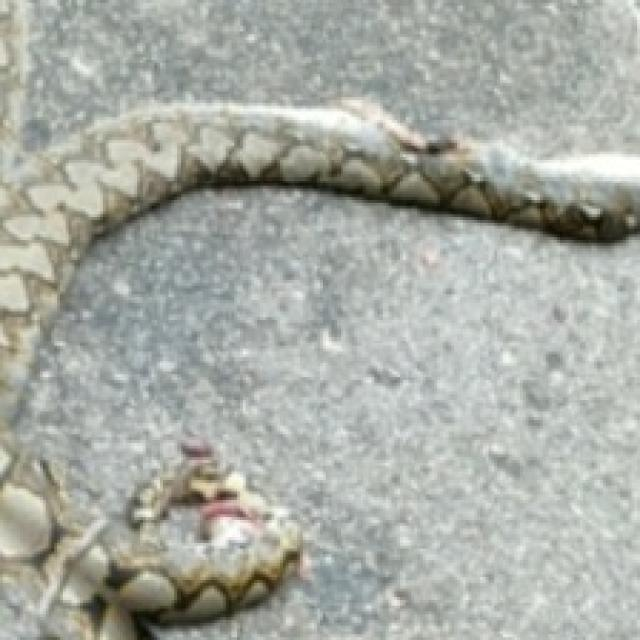reticulated python: (0, 101, 640, 639)
